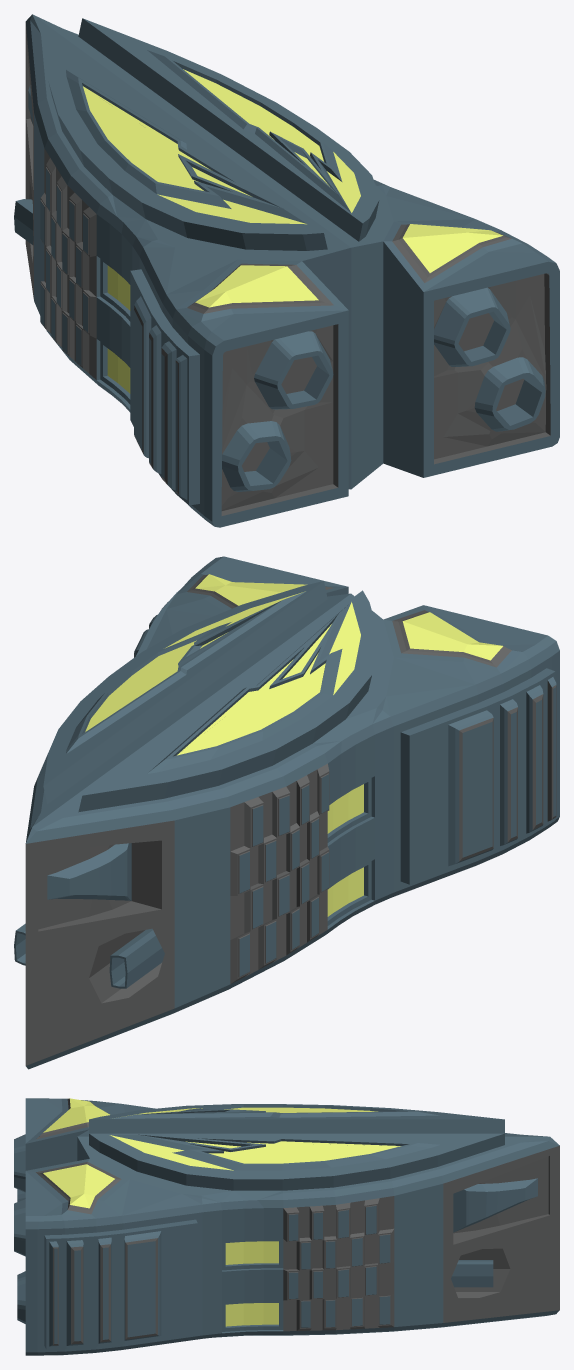
File: cargo.fbx
3 renders of one model, top to bottom at view 1: azimuth 30°, elevation 25°; view 2: azimuth 150°, elevation 25°; view 3: azimuth 270°, elevation 25°, orthographic. The views are drawn at different scales.
Parts seen in each view (by area): view 1: Cube; view 2: Cube; view 3: Cube.
Part boxes in pixels (x1=…): Cube: x1=14, y1=14, x2=559, y2=527; Cube: x1=14, y1=556, x2=559, y2=1069; Cube: x1=14, y1=1098, x2=559, y2=1355.
Size of the model in its own units: 327 by 214 by 552.
Materials: 1 (1 with a texture image).
